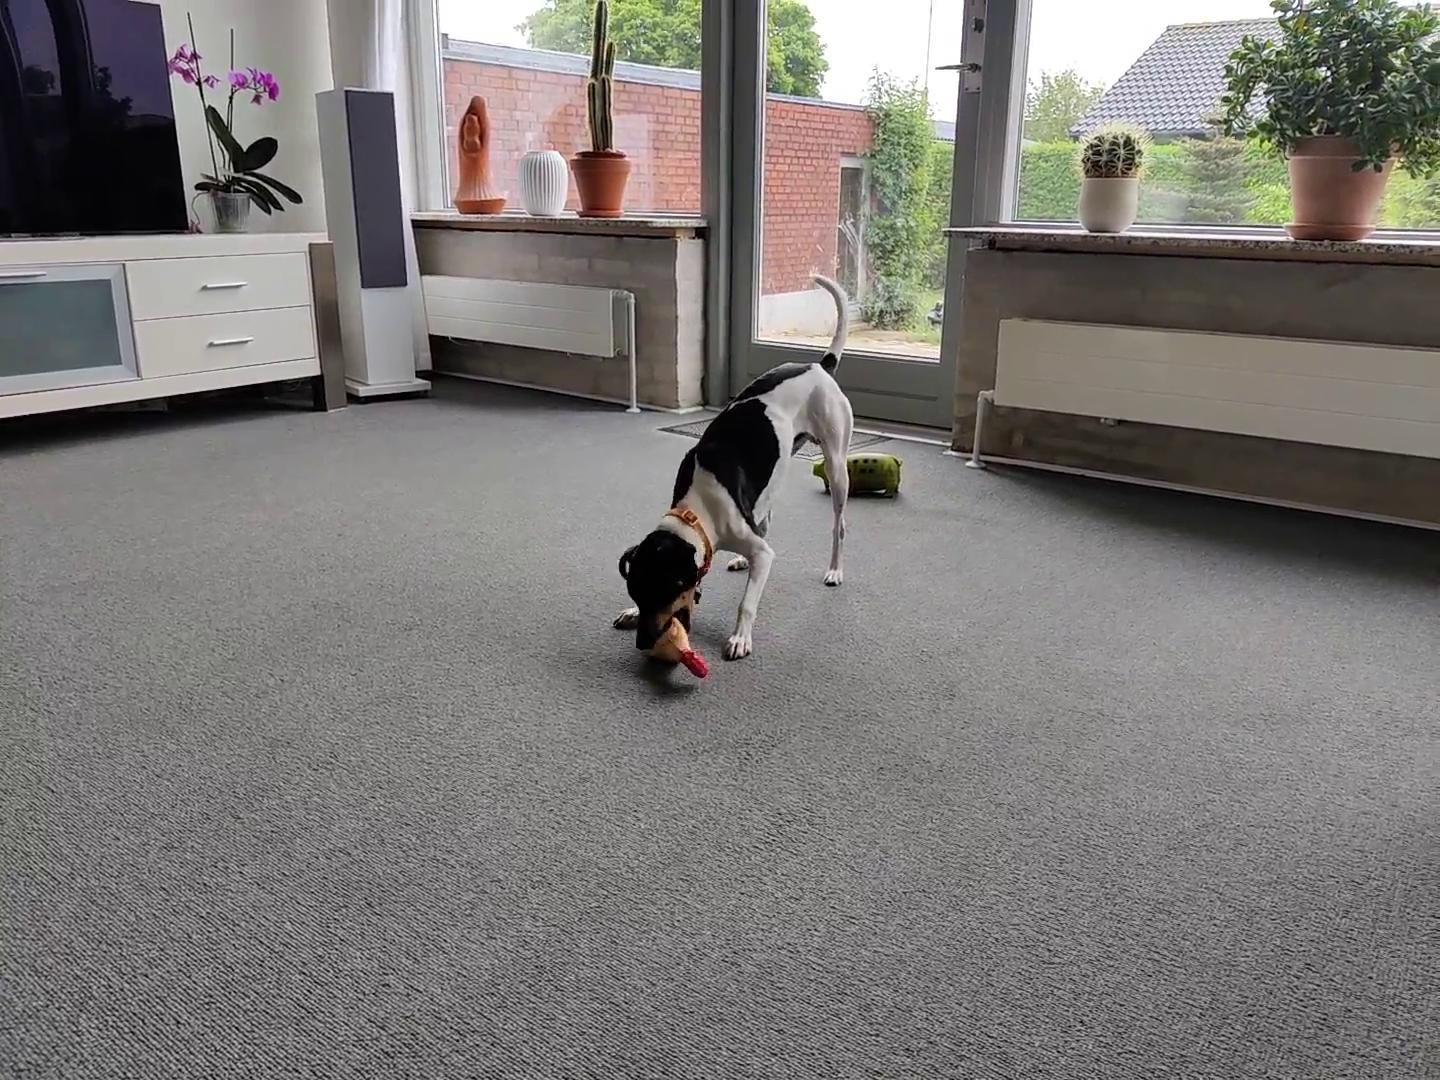Dog: (608, 269, 856, 661)
